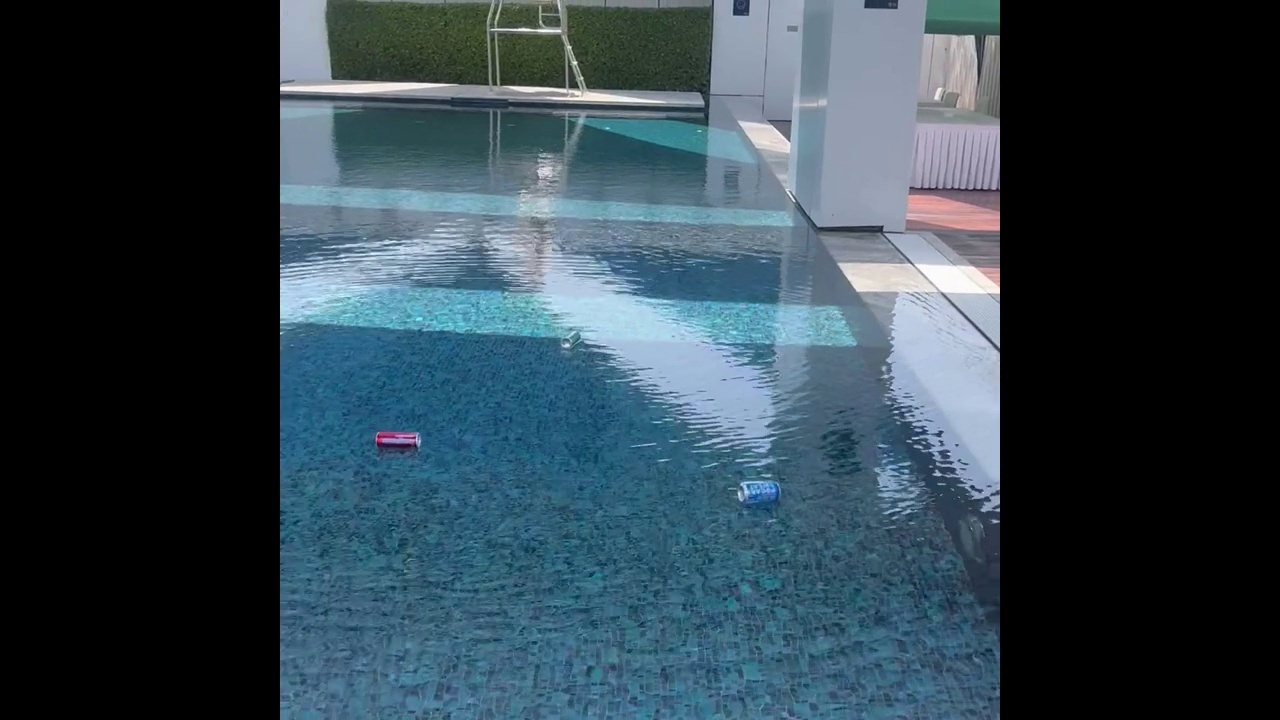debris: (733, 478, 788, 508), (372, 428, 424, 453), (557, 327, 583, 351)
